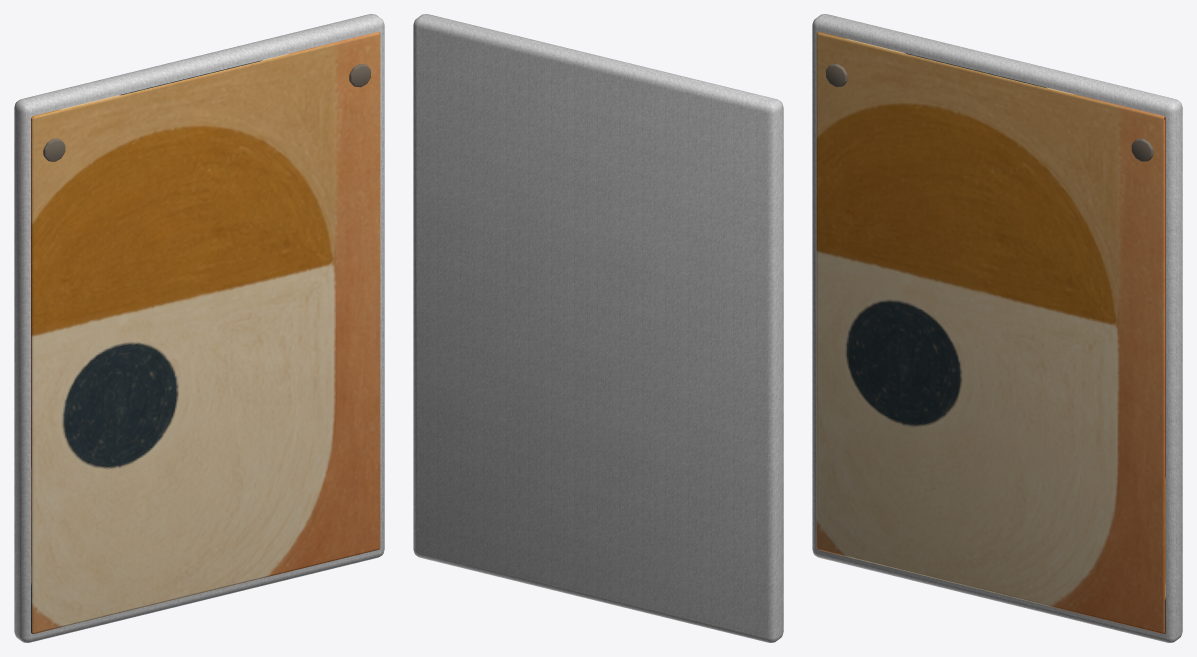
File: abstract-poster.glb
The picture shows the model from 3 angles, left to right: view 1: azimuth 30°, elevation 25°; view 2: azimuth 150°, elevation 25°; view 3: azimuth 330°, elevation 25°; orthographic projection.
Parts seen in each view (by area): view 1: catalog_surface_UVMap, catalog_surface_RealismUV; view 2: catalog_surface_RealismUV; view 3: catalog_surface_UVMap, catalog_surface_RealismUV.
Part boxes in pixels (<box>): catalog_surface_UVMap: <box>31,32,380,633</box>; catalog_surface_RealismUV: <box>14,14,384,642</box>; catalog_surface_RealismUV: <box>413,14,783,642</box>; catalog_surface_UVMap: <box>816,32,1165,633</box>; catalog_surface_RealismUV: <box>812,14,1182,642</box>.
Size of the model in its own units: 0.6 by 0.85 by 0.0431.
3 materials, 2 textured.
